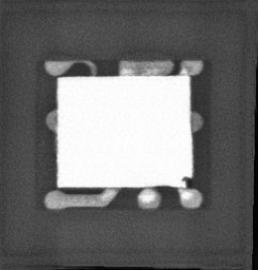DIE_BROKEN: (180, 174, 194, 189)
